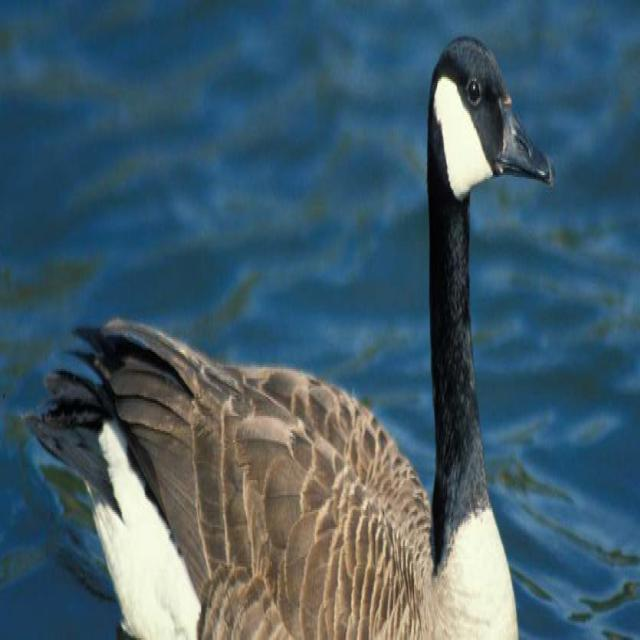Goose: (79, 24, 557, 640)
